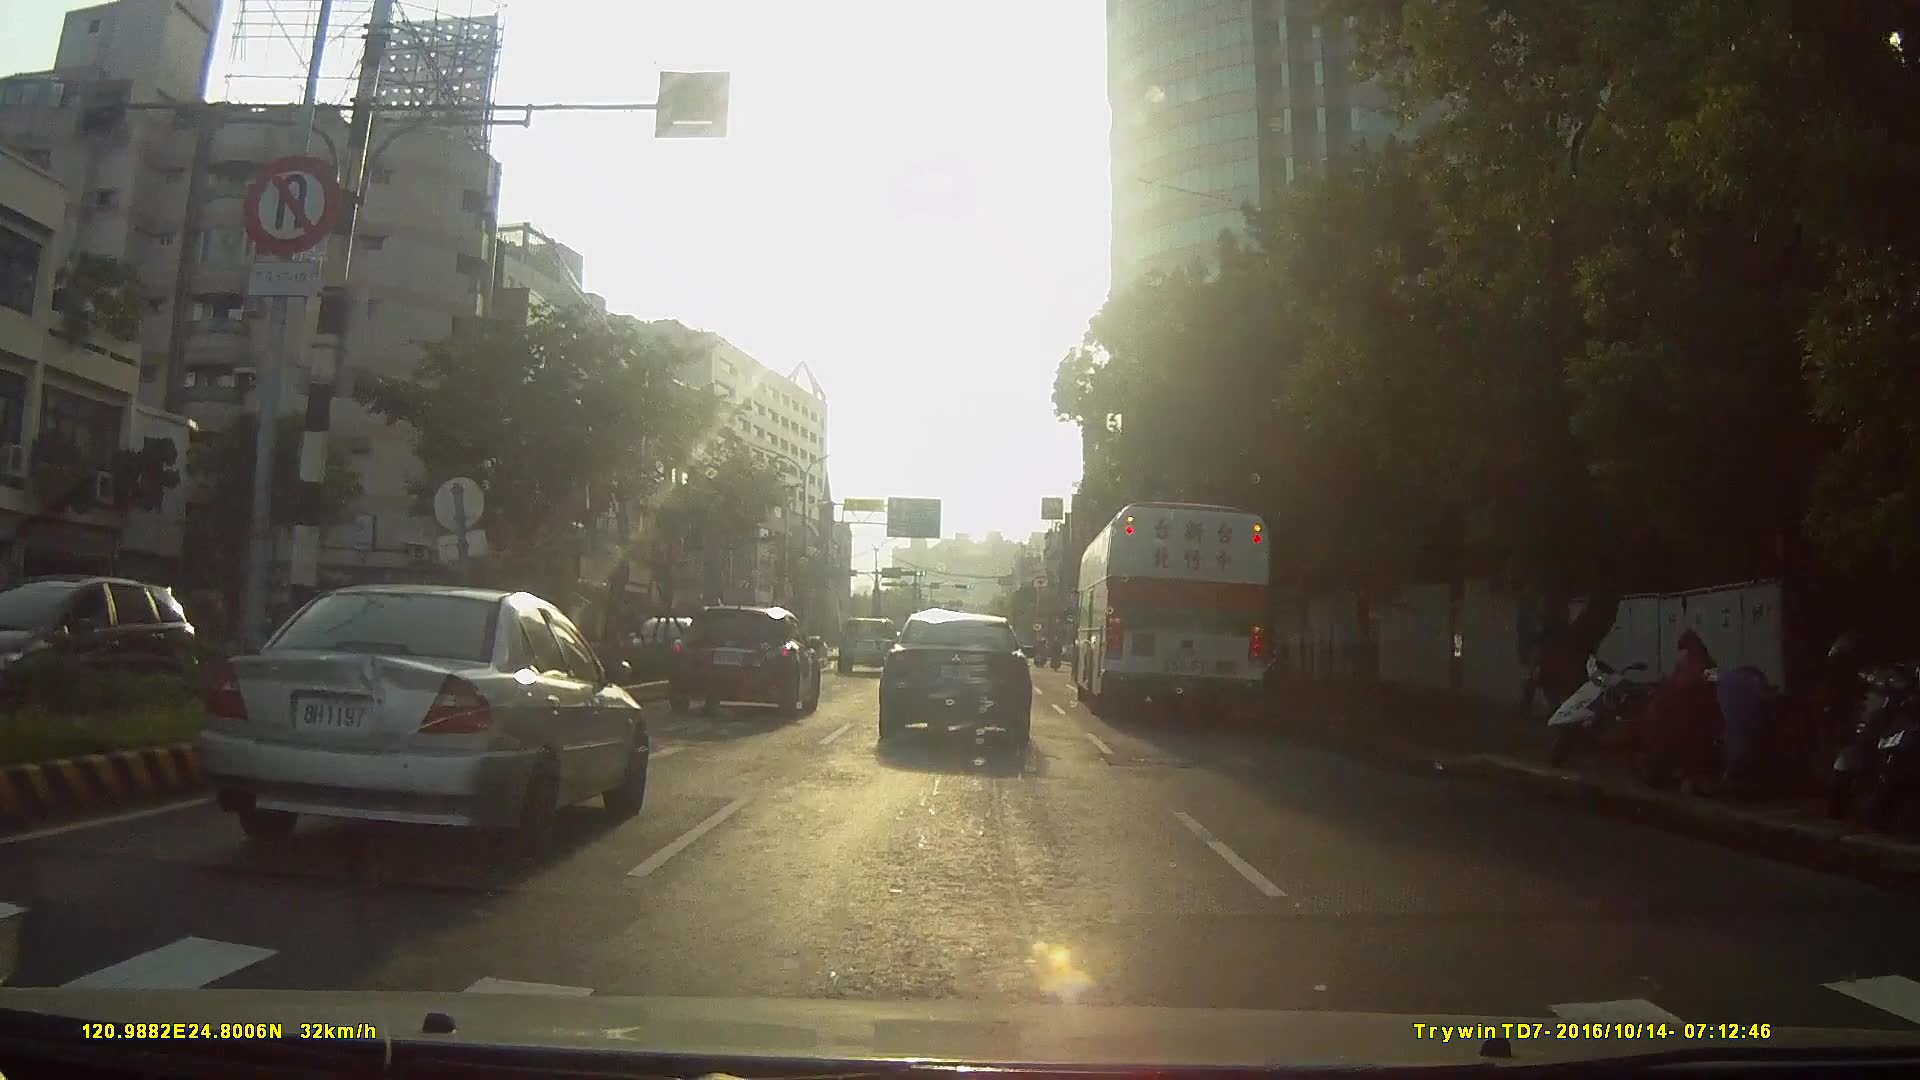vehicle: (195, 580, 647, 864), (1076, 495, 1276, 717), (5, 578, 222, 725), (876, 611, 1033, 754), (666, 601, 822, 720), (833, 615, 899, 675)
